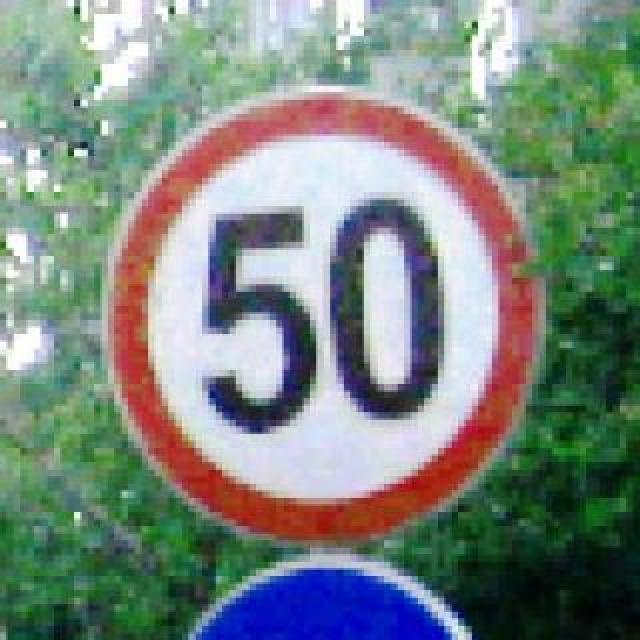50 kph: (94, 78, 538, 534)
